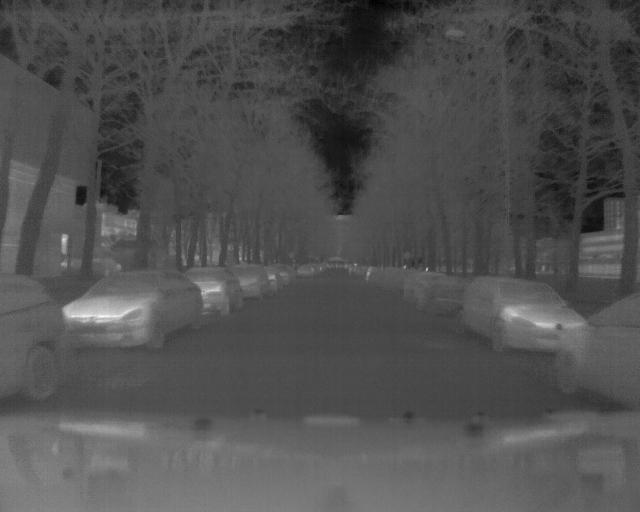car: (62, 265, 206, 353), (554, 270, 640, 402), (1, 268, 77, 392), (459, 271, 561, 357), (193, 263, 246, 317)
